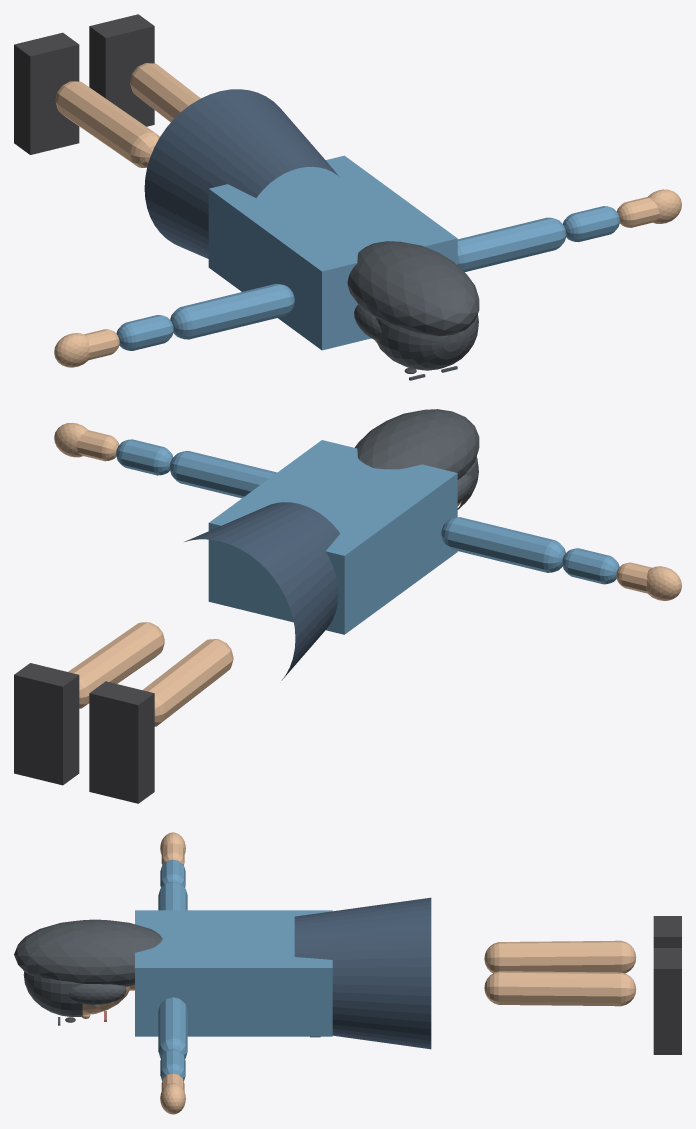
Rendered from CHAR_AVATAR_VARIANT_004.glb.
The picture shows the model from 3 angles, top to bottom: view 1: azimuth 30°, elevation 25°; view 2: azimuth 150°, elevation 25°; view 3: azimuth 270°, elevation 25°; orthographic projection. The views are drawn at different scales.
Parts seen in each view (by area): view 1: CHAR_AVATAR_VARIANT_004_torso_jacket, CHAR_AVATAR_VARIANT_004_skirt, CHAR_AVATAR_VARIANT_004_back_hair, CHAR_AVATAR_VARIANT_004_shoe_L, CHAR_AVATAR_VARIANT_004_shoe_R, CHAR_AVATAR_VARIANT_004_calf_L, CHAR_AVATAR_VARIANT_004_upper_arm_L, CHAR_AVATAR_VARIANT_004_upper_arm_R, CHAR_AVATAR_VARIANT_004_hair_cap, CHAR_AVATAR_VARIANT_004_calf_R, CHAR_AVATAR_VARIANT_004_forearm_L, CHAR_AVATAR_VARIANT_004_forearm_R (+5 smaller); view 2: CHAR_AVATAR_VARIANT_004_torso_jacket, CHAR_AVATAR_VARIANT_004_skirt, CHAR_AVATAR_VARIANT_004_shoe_L, CHAR_AVATAR_VARIANT_004_shoe_R, CHAR_AVATAR_VARIANT_004_back_hair, CHAR_AVATAR_VARIANT_004_upper_arm_L, CHAR_AVATAR_VARIANT_004_calf_L, CHAR_AVATAR_VARIANT_004_calf_R, CHAR_AVATAR_VARIANT_004_upper_arm_R, CHAR_AVATAR_VARIANT_004_forearm_L, CHAR_AVATAR_VARIANT_004_forearm_R, CHAR_AVATAR_VARIANT_004_hand_L (+3 smaller); view 3: CHAR_AVATAR_VARIANT_004_torso_jacket, CHAR_AVATAR_VARIANT_004_skirt, CHAR_AVATAR_VARIANT_004_back_hair, CHAR_AVATAR_VARIANT_004_calf_R, CHAR_AVATAR_VARIANT_004_calf_L, CHAR_AVATAR_VARIANT_004_shoe_R, CHAR_AVATAR_VARIANT_004_hair_cap, CHAR_AVATAR_VARIANT_004_upper_arm_R, CHAR_AVATAR_VARIANT_004_hair_side_R, CHAR_AVATAR_VARIANT_004_shoe_L, CHAR_AVATAR_VARIANT_004_upper_arm_L, CHAR_AVATAR_VARIANT_004_hand_R (+2 smaller).
Part boxes in pixels (x1,y1,x2,y2): CHAR_AVATAR_VARIANT_004_torso_jacket: (208,155,457,350); CHAR_AVATAR_VARIANT_004_skirt: (144,89,339,258); CHAR_AVATAR_VARIANT_004_back_hair: (347,241,479,336); CHAR_AVATAR_VARIANT_004_shoe_L: (14,32,79,154); CHAR_AVATAR_VARIANT_004_shoe_R: (89,14,154,126); CHAR_AVATAR_VARIANT_004_calf_L: (55,81,159,167); CHAR_AVATAR_VARIANT_004_upper_arm_L: (170,283,294,339); CHAR_AVATAR_VARIANT_004_upper_arm_R: (457,217,566,271); CHAR_AVATAR_VARIANT_004_hair_cap: (376,314,478,370); CHAR_AVATAR_VARIANT_004_calf_R: (130,63,200,122); CHAR_AVATAR_VARIANT_004_forearm_L: (116,315,173,350); CHAR_AVATAR_VARIANT_004_forearm_R: (563,206,619,242); CHAR_AVATAR_VARIANT_004_torso_jacket: (208,440,457,634); CHAR_AVATAR_VARIANT_004_skirt: (184,502,340,680); CHAR_AVATAR_VARIANT_004_shoe_L: (89,681,154,803); CHAR_AVATAR_VARIANT_004_shoe_R: (14,663,79,785); CHAR_AVATAR_VARIANT_004_back_hair: (354,409,479,479); CHAR_AVATAR_VARIANT_004_upper_arm_L: (441,517,565,572); CHAR_AVATAR_VARIANT_004_calf_L: (142,639,233,726); CHAR_AVATAR_VARIANT_004_calf_R: (68,622,164,708); CHAR_AVATAR_VARIANT_004_upper_arm_R: (169,451,276,498); CHAR_AVATAR_VARIANT_004_forearm_L: (562,548,619,584); CHAR_AVATAR_VARIANT_004_forearm_R: (116,439,173,475); CHAR_AVATAR_VARIANT_004_hand_L: (646,566,681,600); CHAR_AVATAR_VARIANT_004_torso_jacket: (135,910,332,1036); CHAR_AVATAR_VARIANT_004_skirt: (294,897,431,1049); CHAR_AVATAR_VARIANT_004_back_hair: (14,919,162,986); CHAR_AVATAR_VARIANT_004_calf_R: (484,971,636,1006); CHAR_AVATAR_VARIANT_004_calf_L: (484,940,636,973); CHAR_AVATAR_VARIANT_004_shoe_R: (653,948,681,1054); CHAR_AVATAR_VARIANT_004_hair_cap: (23,971,82,1016); CHAR_AVATAR_VARIANT_004_upper_arm_R: (158,997,187,1058); CHAR_AVATAR_VARIANT_004_hair_side_R: (69,984,126,1004); CHAR_AVATAR_VARIANT_004_shoe_L: (653,916,681,947); CHAR_AVATAR_VARIANT_004_upper_arm_L: (158,881,187,910); CHAR_AVATAR_VARIANT_004_hand_R: (160,1082,185,1114).
Size of the model in its own units: 1.63 by 0.393 by 1.73.
